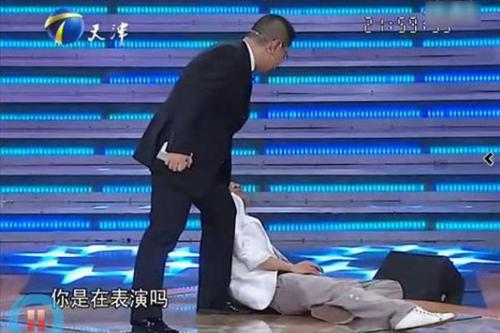fall: (210, 174, 499, 332)
